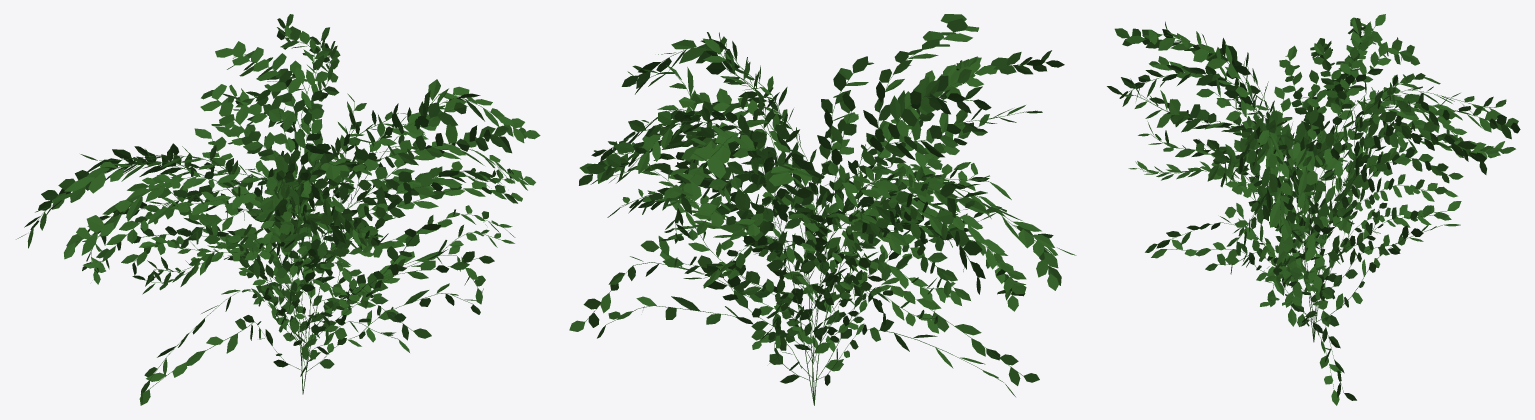
The model's file is AnxiousBush.fbx.
3 renders of one model, left to right at view 1: azimuth 30°, elevation 25°; view 2: azimuth 150°, elevation 25°; view 3: azimuth 270°, elevation 25°, orthographic. The views are drawn at different scales.
Visible parts, largest first — view 1: AnxiousBush; view 2: AnxiousBush; view 3: AnxiousBush.
Boxes of the visible parts, box(x1,y1,x2,y2) form: AnxiousBush: box(16, 14, 540, 405); AnxiousBush: box(569, 14, 1076, 405); AnxiousBush: box(1107, 14, 1520, 405).
Bounding box in the file's own units: 438 × 277 × 352.
